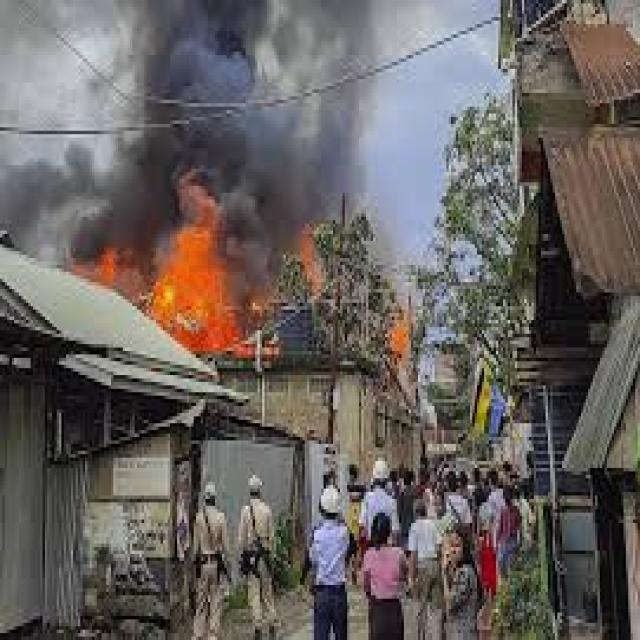Fire: (148, 235, 260, 343)
Smoke: (1, 0, 378, 244)
